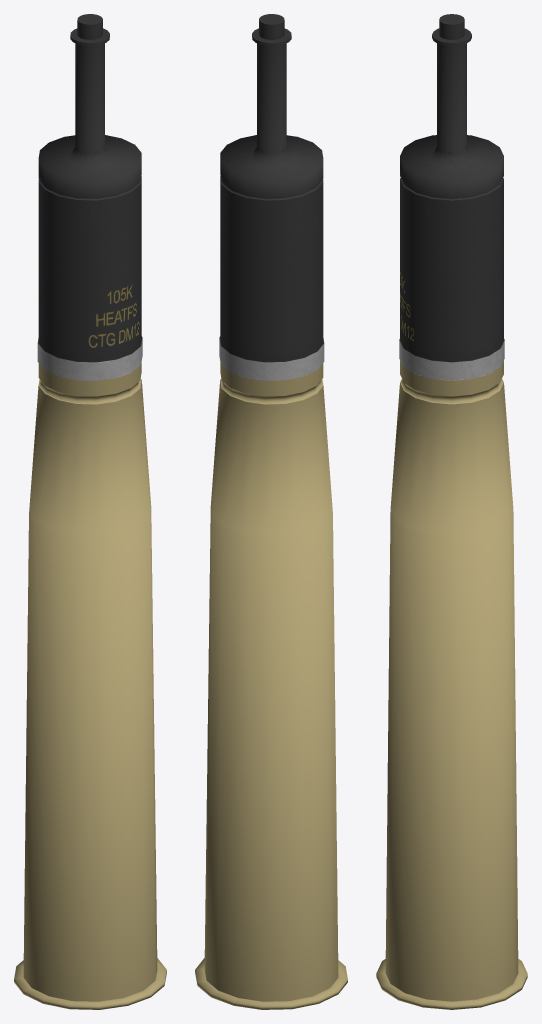
3 renders of one model, left to right at view 1: azimuth 30°, elevation 25°; view 2: azimuth 150°, elevation 25°; view 3: azimuth 270°, elevation 25°, orthographic.
Parts seen in each view (by area): view 1: DM12; view 2: DM12; view 3: DM12.
Part boxes in pixels (x1,y1,x2,y2): DM12: (14, 14, 166, 1009); DM12: (195, 14, 347, 1009); DM12: (376, 14, 527, 1009).
Size of the model in its own units: 4.56 by 31.23 by 4.47.
3 materials, 3 textured.
